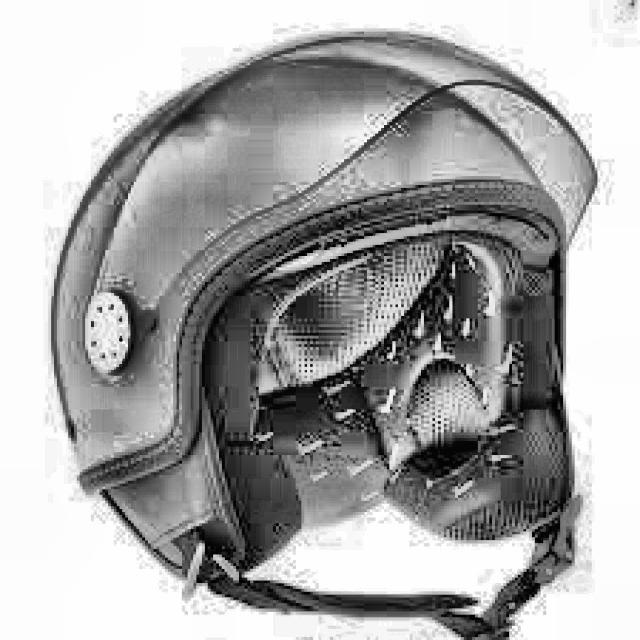Helmet: (40, 14, 609, 640)
